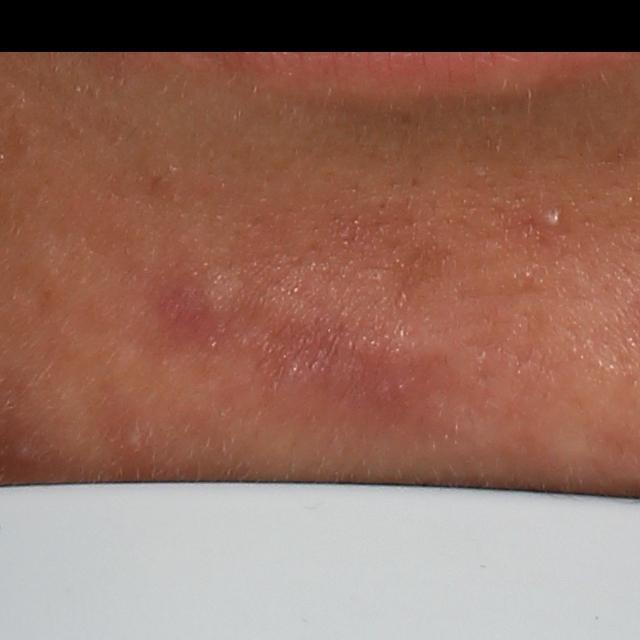hypertrophic_scar: (198, 265, 247, 330)
pustule: (530, 203, 570, 233)
